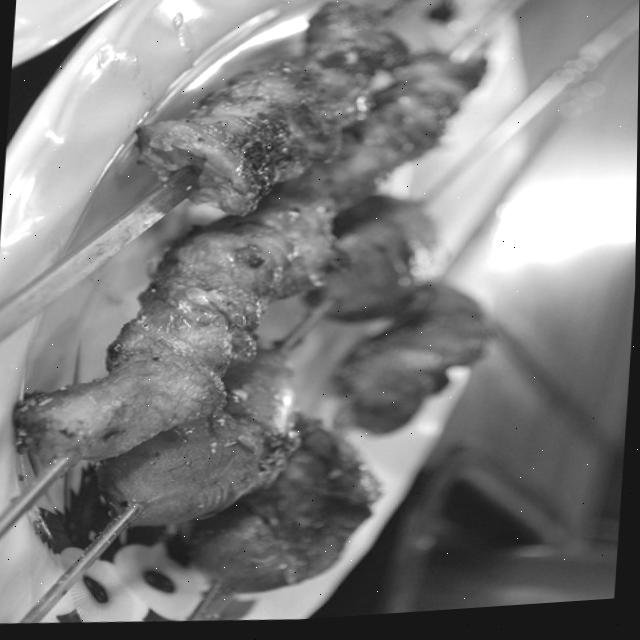烧串烤肉: (0, 0, 595, 640)
